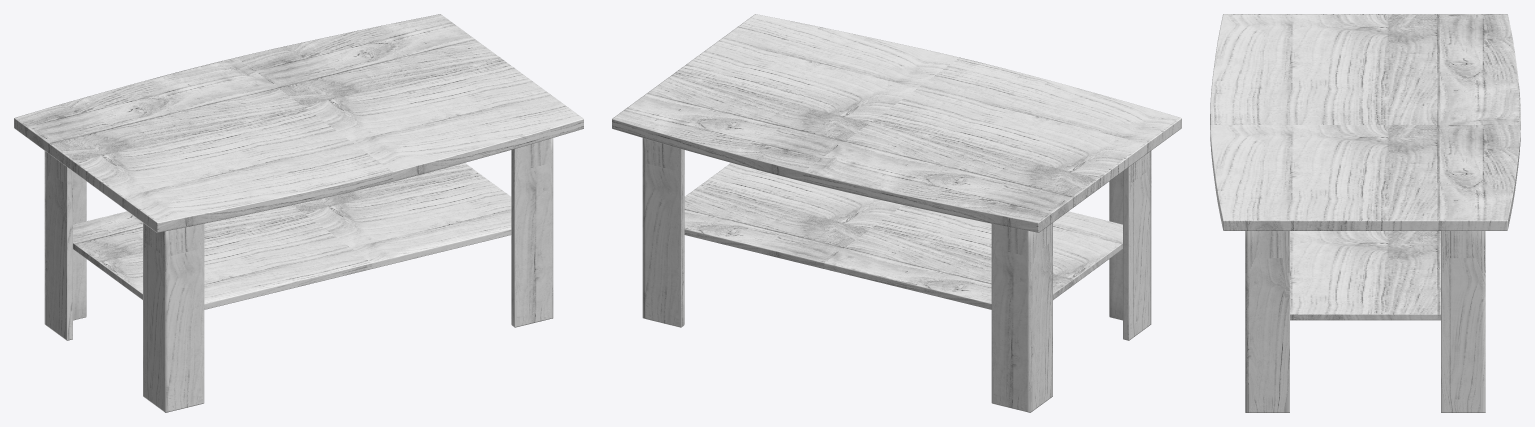
File: table.gltf
3 views of the same model, side by side, from view 1: azimuth 30°, elevation 25°; view 2: azimuth 150°, elevation 25°; view 3: azimuth 270°, elevation 25° (orthographic).
Parts seen in each view (by area): view 1: coffee_table_anrex_olivia; view 2: coffee_table_anrex_olivia; view 3: coffee_table_anrex_olivia.
Part boxes in pixels (x1=…): coffee_table_anrex_olivia: x1=14, y1=14, x2=583, y2=412; coffee_table_anrex_olivia: x1=612, y1=14, x2=1181, y2=412; coffee_table_anrex_olivia: x1=1210, y1=14, x2=1520, y2=412.
Bounding box in the file's own units: 1.1 × 0.5 × 0.6987.
1 material, 1 textured.
